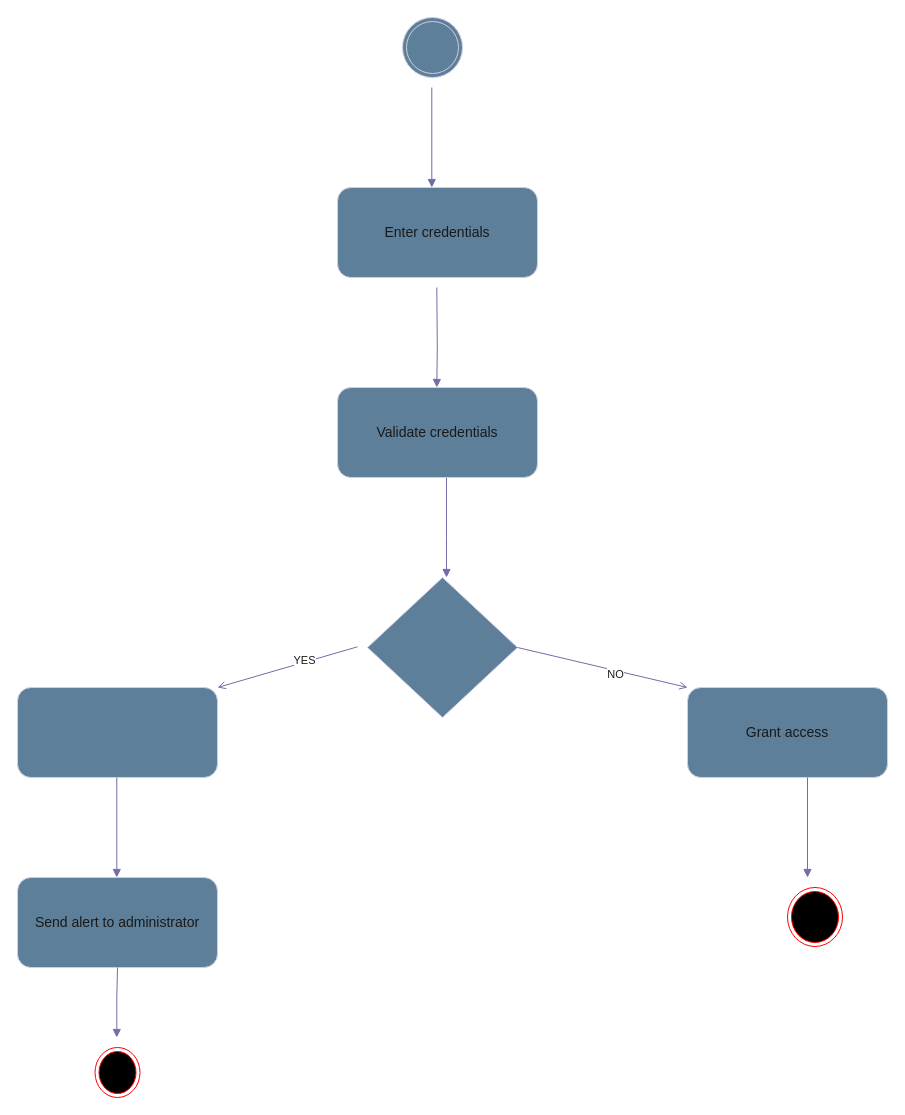
This 905x1115 diagram has some shape labels left out. The centre of each missing label's shape, as x and y in pixels:
Block account: pixel 117 732
Suspicious activity?: pixel 442 647
